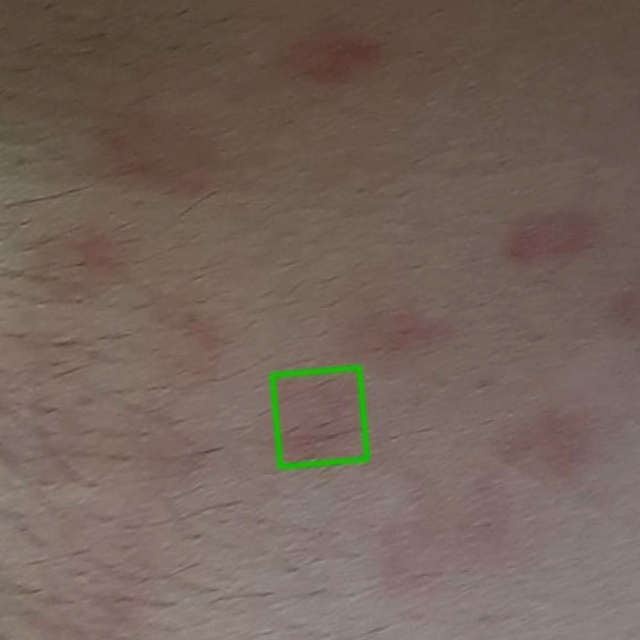Tinea Corporis: (272, 367, 367, 466)
